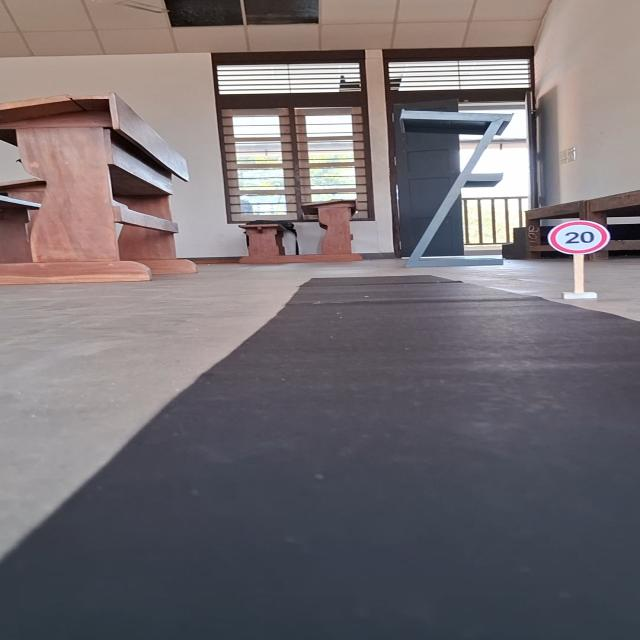Speed20: (546, 219, 612, 256)
